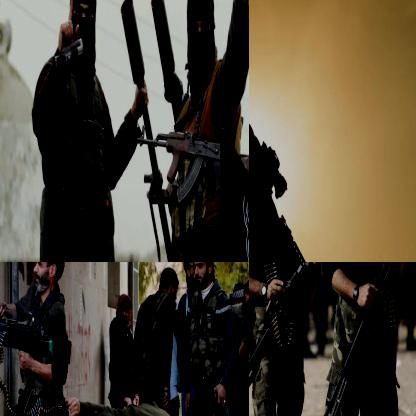rifle: (318, 262, 415, 415), (249, 121, 336, 261), (249, 262, 324, 415), (130, 131, 248, 206), (0, 305, 74, 378), (189, 339, 248, 415)
